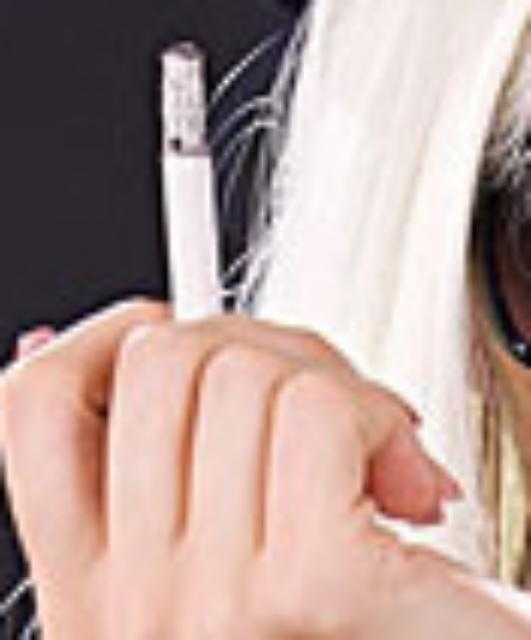Smoking: (162, 40, 225, 358)
